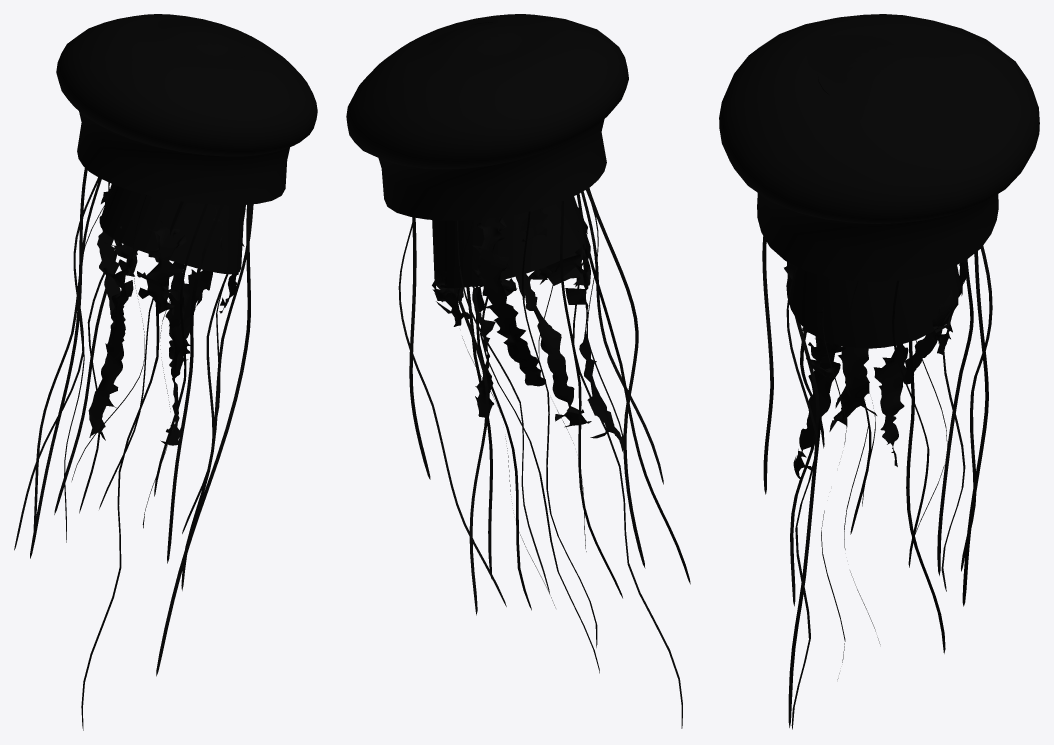
File: jellyfish.fbx
3 renders of one model, left to right at view 1: azimuth 30°, elevation 25°; view 2: azimuth 150°, elevation 25°; view 3: azimuth 270°, elevation 25°, orthographic. The views are drawn at different scales.
Parts seen in each view (by area): view 1: node_id8; view 2: node_id8; view 3: node_id8.
Boxes of the visible parts, box(x1,y1,x2,y2) form: node_id8: box(14, 14, 317, 730); node_id8: box(346, 14, 690, 728); node_id8: box(719, 14, 1039, 729).
Size of the model in its own units: 0.2301 by 0.4823 by 0.1847.
Materials: 1 (1 with a texture image).
